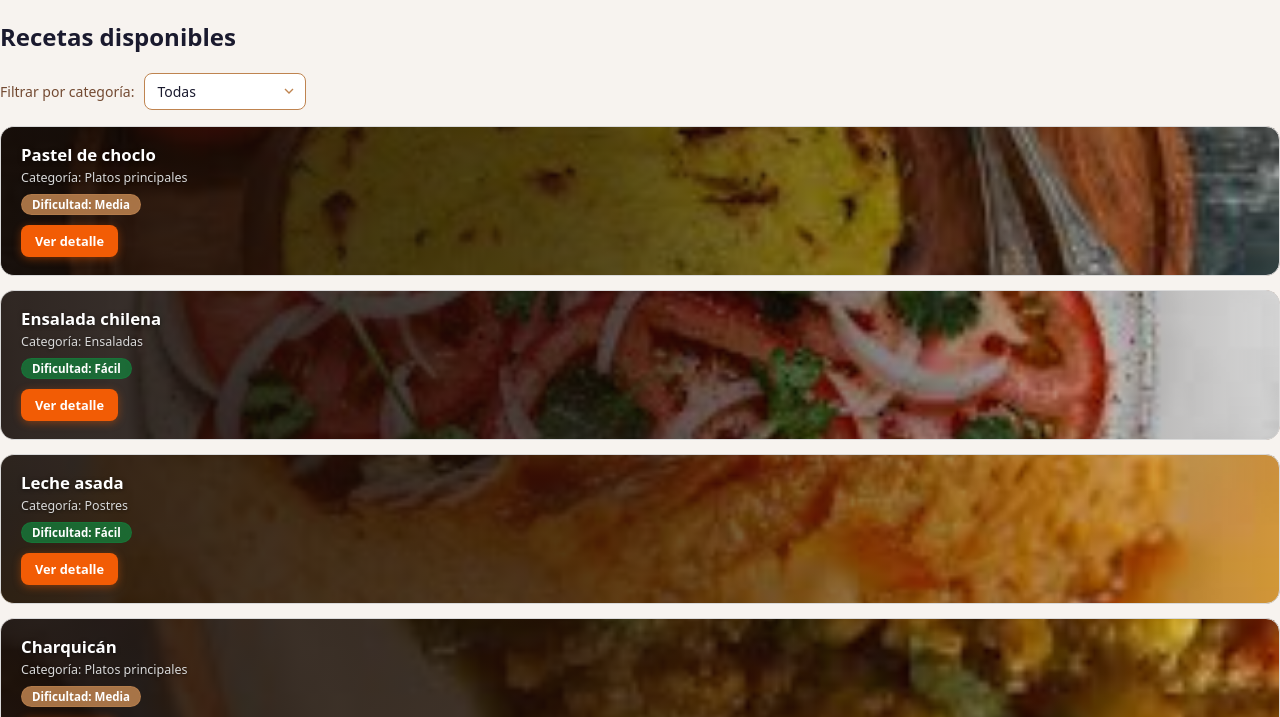
Test: filtra recetas por categoría Postres
This screenshot has width=1280, height=717.
Expected: the heading "Pastel de choclo" is shown, [21,143,156,166]
Select "Postres" in the dropdown. click: (225, 91)
box: [144,73,306,110]
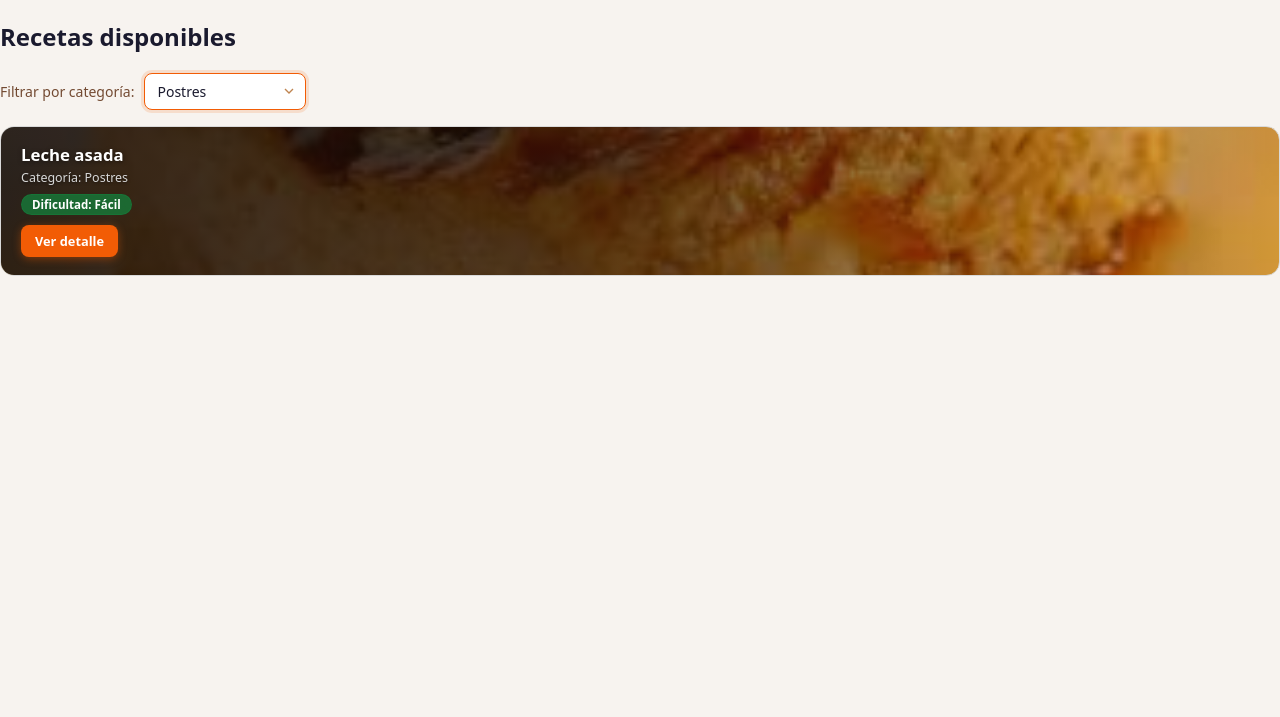
Expected: the heading "Leche asada" is shown, [21,145,132,165]
Result: the heading "Pastel de choclo" is gone
